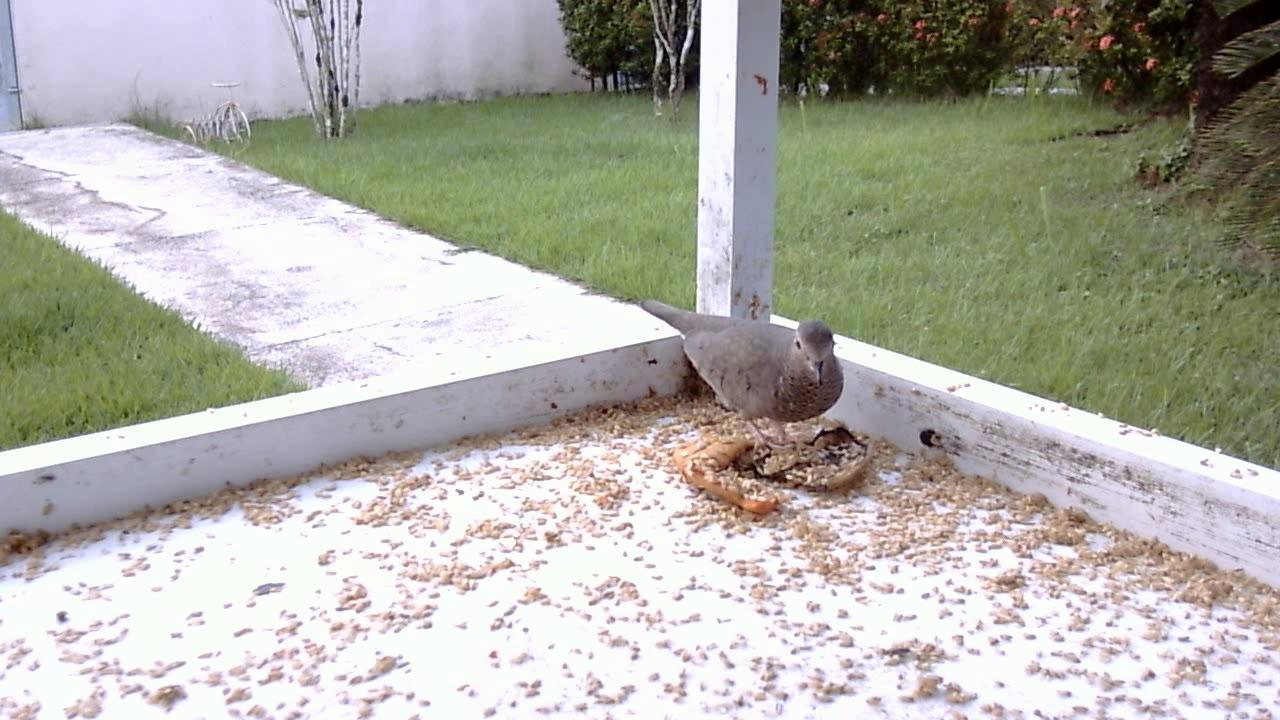rolinha: (627, 291, 862, 483)
